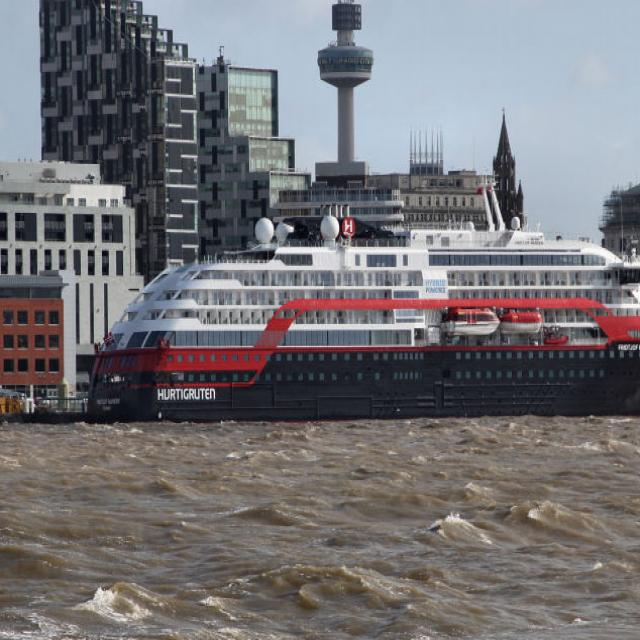cruises: (83, 201, 640, 430)
